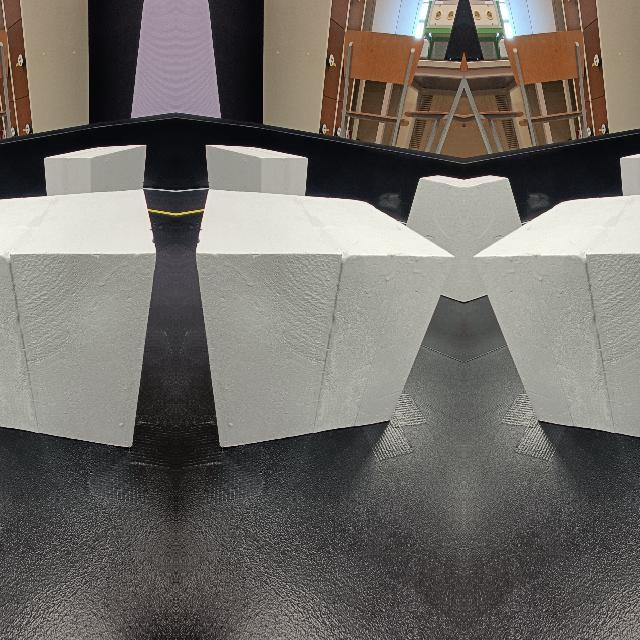obstacle: (196, 185, 454, 448), (472, 185, 640, 448), (0, 185, 154, 448)
